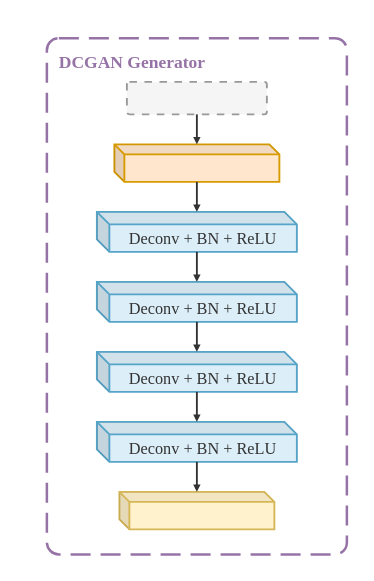
Some shapes in this 374 by 581 pixel diagram are drawn without their labels. The centre of each missing label's shape, as x and y in pixels:
"FC + Reshape" belongs at (196,162).
"Noise z" belongs at (196,97).
"Output Image" belongs at (196,510).
